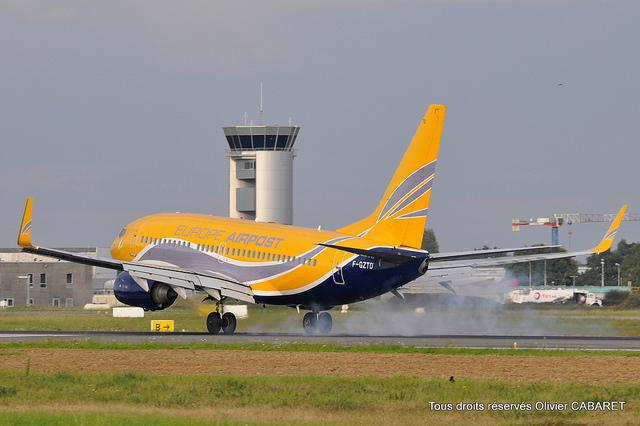Airplane: (25, 105, 561, 309)
